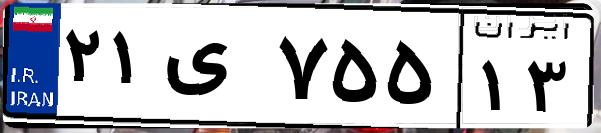1: (475, 38, 525, 113), (110, 28, 158, 98)
2: (57, 26, 110, 100)
3: (525, 38, 570, 115)
5: (385, 28, 445, 110), (330, 28, 385, 110)
7: (270, 28, 330, 110)
ی: (158, 20, 270, 120)
